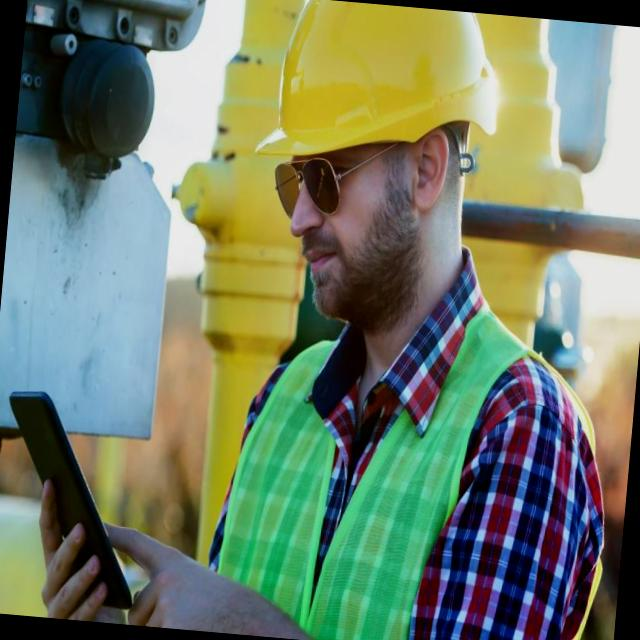goggles: (245, 126, 404, 255)
helmet: (250, 0, 511, 182)
vest: (226, 292, 515, 640)
